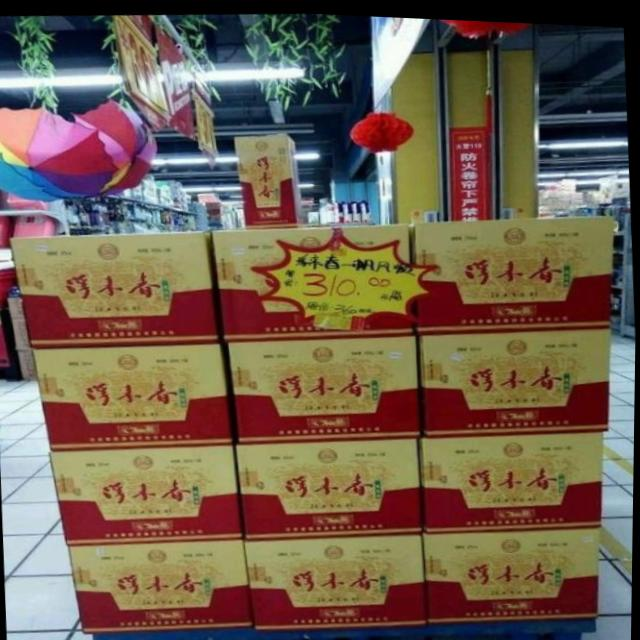box: (10, 230, 221, 348), (212, 219, 416, 339), (410, 212, 614, 332), (32, 342, 234, 451), (419, 321, 612, 434), (230, 331, 423, 443), (50, 444, 248, 545), (236, 432, 424, 538), (423, 426, 604, 530), (244, 530, 430, 628), (66, 538, 255, 633), (425, 524, 603, 620), (234, 131, 303, 229)
